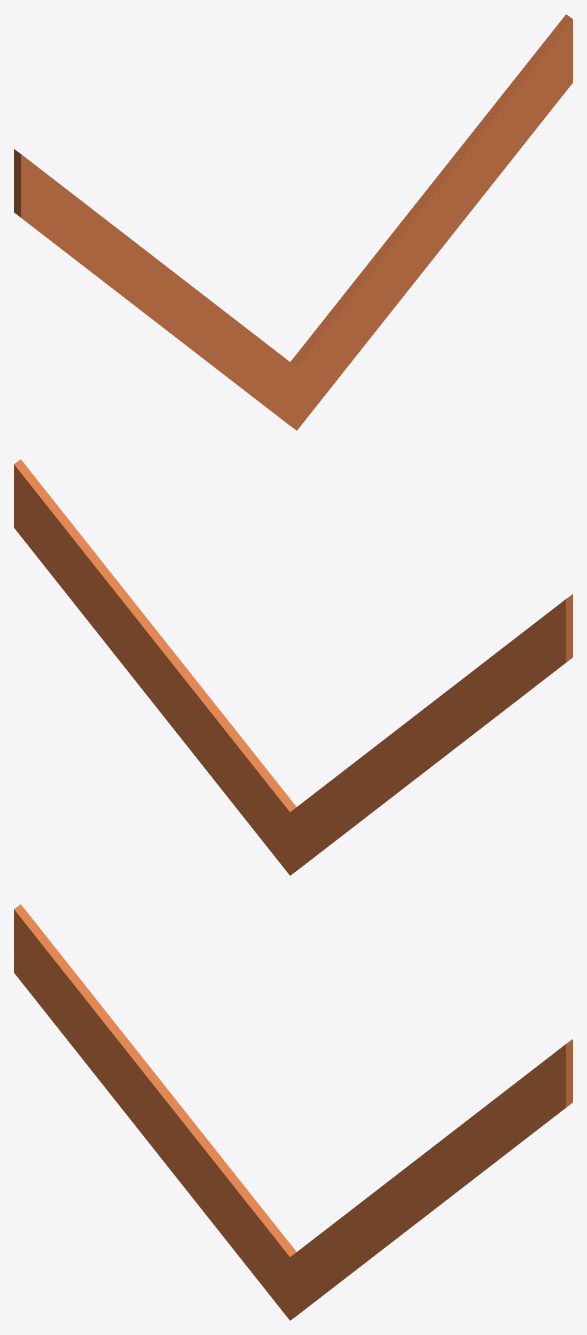
Rendered from FM_BB_Clock_Tower_V_Big_001.fbx.
The picture shows the model from 3 angles, top to bottom: view 1: azimuth 30°, elevation 25°; view 2: azimuth 150°, elevation 25°; view 3: azimuth 330°, elevation 25°; orthographic projection.
Visible parts, largest first — view 1: FM_BB_Clock_Tower_V_Big_001; view 2: FM_BB_Clock_Tower_V_Big_001; view 3: FM_BB_Clock_Tower_V_Big_001.
Part boxes in pixels (box(x1,y1,x2,y2)): FM_BB_Clock_Tower_V_Big_001: box(14, 14, 572, 430); FM_BB_Clock_Tower_V_Big_001: box(14, 459, 572, 875); FM_BB_Clock_Tower_V_Big_001: box(14, 904, 572, 1320).
Size of the model in its own units: 2.48 by 1.48 by 0.0533.
